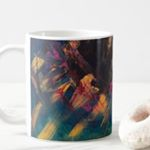cups: (1, 28, 119, 143)
